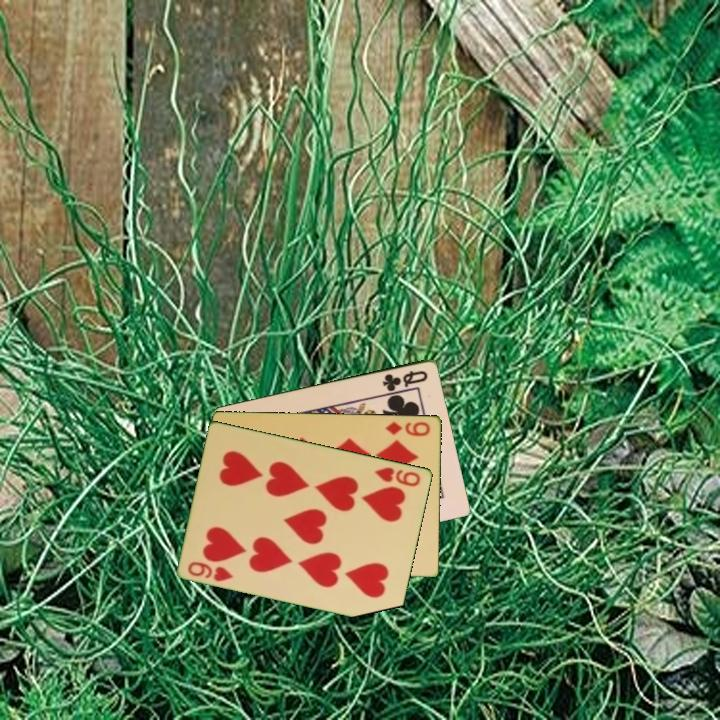9d: (382, 417, 433, 439)
9h: (371, 463, 424, 489), (185, 558, 236, 584)
Qc: (379, 366, 431, 394)
